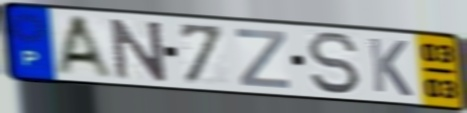7: (178, 21, 227, 87)
A: (52, 14, 119, 82)
K: (366, 35, 415, 99)
N: (107, 17, 170, 83)
S: (304, 30, 363, 97)
Z: (233, 27, 292, 92)
